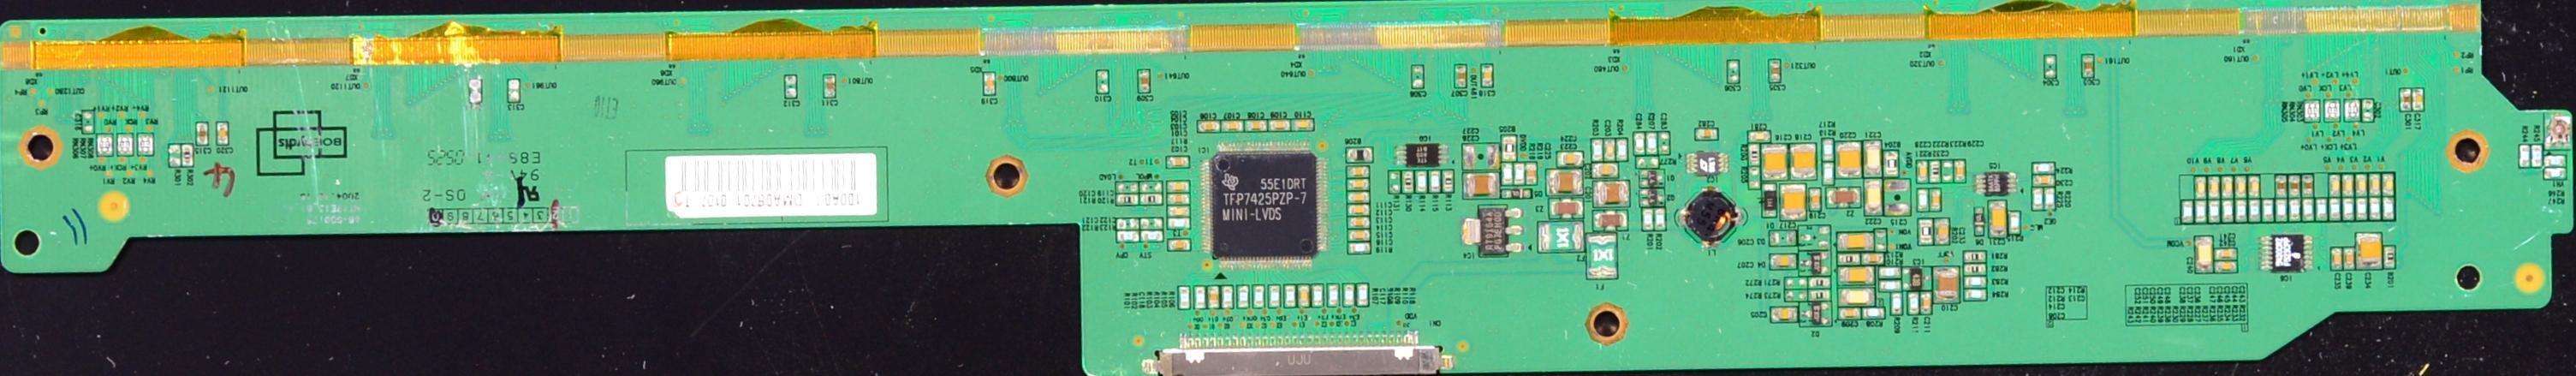Capacitor: (1760, 145, 1790, 181), (1461, 143, 1501, 171), (1932, 266, 1960, 305), (1789, 143, 1817, 180), (1780, 184, 1807, 222), (1544, 169, 1585, 194), (2355, 233, 2382, 272), (1836, 141, 1865, 176), (1463, 172, 1500, 199), (1593, 181, 1630, 206), (1862, 181, 1884, 215), (1837, 287, 1876, 307), (1864, 140, 1883, 179), (2194, 236, 2215, 273), (1988, 200, 2007, 242), (1837, 232, 1873, 252), (1837, 267, 1875, 286), (1556, 151, 1584, 167), (1935, 218, 1951, 245), (1770, 230, 1797, 247), (1770, 254, 1798, 271), (1770, 307, 1799, 323), (1591, 164, 1620, 179), (823, 74, 837, 99), (1768, 58, 1783, 84), (1410, 65, 1425, 89), (784, 75, 798, 98), (508, 80, 522, 104), (1480, 64, 1495, 89), (2234, 175, 2247, 200), (2044, 54, 2056, 81), (1096, 69, 1110, 95), (216, 122, 229, 146), (1839, 306, 1862, 319), (2082, 54, 2096, 78), (1167, 156, 1191, 169), (1954, 159, 1966, 183), (2032, 175, 2056, 187), (2221, 176, 2234, 200), (2207, 176, 2220, 200), (1139, 181, 1163, 194), (1809, 188, 1822, 212), (1139, 218, 1163, 230), (1347, 230, 1372, 242), (2343, 247, 2355, 271), (1297, 283, 1310, 309), (1208, 285, 1220, 310), (1727, 60, 1740, 85), (1454, 64, 1467, 88), (1138, 69, 1151, 93), (1290, 119, 1316, 132), (1695, 128, 1719, 141), (196, 122, 209, 146), (1633, 132, 1645, 155), (1603, 139, 1616, 162), (1346, 165, 1369, 178), (2382, 173, 2395, 195), (2329, 174, 2341, 197), (2247, 176, 2260, 199), (1347, 191, 1371, 204), (1346, 204, 1372, 216), (1116, 218, 1139, 230), (2330, 248, 2342, 272), (983, 72, 996, 96), (2412, 87, 2423, 111), (2400, 87, 2412, 112), (1244, 119, 1269, 132), (1221, 120, 1245, 132), (1346, 179, 1370, 191), (2369, 173, 2381, 197), (1166, 194, 1191, 205), (1346, 217, 1371, 228), (1166, 240, 1191, 251), (1659, 132, 1673, 152), (2342, 175, 2355, 195), (1197, 120, 1221, 132), (1747, 131, 1771, 143), (1645, 132, 1657, 155), (1917, 160, 1929, 184), (1167, 181, 1190, 193), (2194, 176, 2207, 199), (1115, 182, 1139, 194), (1166, 206, 1190, 218), (2215, 261, 2237, 273), (1270, 120, 1292, 132), (2355, 174, 2367, 196), (1921, 292, 1932, 314), (1526, 163, 1537, 186), (1931, 188, 1942, 212), (2214, 249, 2237, 260)
IC: (1479, 208, 1507, 254), (2272, 235, 2304, 272), (1407, 142, 1439, 167), (1985, 171, 2008, 196), (1696, 151, 1719, 175), (1909, 266, 1923, 289)
Resistor: (1918, 219, 1933, 246), (1414, 170, 1429, 194), (1356, 283, 1370, 307), (1906, 291, 1920, 316), (1821, 137, 1834, 162), (1591, 139, 1604, 163), (1326, 283, 1341, 307), (1635, 157, 1659, 170), (1388, 170, 1401, 195), (1115, 194, 1139, 206), (2382, 197, 2395, 221), (2315, 198, 2328, 221), (2329, 198, 2341, 221), (1640, 207, 1653, 232), (2008, 212, 2020, 236), (1237, 284, 1250, 309), (1269, 284, 1281, 309), (181, 144, 193, 168), (1942, 159, 1954, 182), (1929, 160, 1942, 183), (1514, 163, 1526, 186), (1501, 163, 1514, 186), (1401, 170, 1414, 194), (1429, 170, 1443, 194), (1917, 188, 1930, 212), (2341, 198, 2353, 220), (2288, 199, 2301, 222), (2222, 199, 2234, 222), (2181, 200, 2194, 224), (1964, 276, 1987, 289), (1342, 283, 1356, 307), (1891, 293, 1902, 318), (1748, 166, 1760, 190), (1443, 170, 1455, 194), (2355, 198, 2368, 221), (1655, 207, 1666, 231), (1139, 230, 1164, 241), (1783, 278, 1807, 289), (1964, 289, 1988, 301), (1784, 290, 1808, 302), (1823, 164, 1835, 186), (2302, 200, 2314, 222), (2194, 201, 2208, 223), (1879, 266, 1901, 279), (1193, 287, 1206, 309), (2519, 144, 2530, 167), (169, 144, 181, 168), (2543, 155, 2566, 166), (2032, 163, 2055, 175), (2544, 169, 2567, 180), (2369, 197, 2381, 220), (2262, 199, 2274, 222), (2208, 200, 2219, 223), (2235, 200, 2248, 223), (1963, 251, 1987, 262), (1964, 265, 1987, 276), (1807, 289, 1829, 301), (1284, 284, 1296, 307), (1312, 283, 1324, 307), (1222, 285, 1234, 308), (1616, 139, 1627, 161), (1139, 193, 1162, 204), (2044, 188, 2055, 211), (2032, 188, 2044, 211), (2249, 200, 2260, 222), (1116, 230, 1139, 242), (1808, 277, 1830, 288), (1879, 280, 1901, 293), (1178, 285, 1190, 307), (1253, 285, 1264, 307), (2531, 144, 2541, 167), (2276, 199, 2286, 222), (1347, 243, 1370, 254), (1749, 144, 1760, 166), (1168, 219, 1191, 229)
